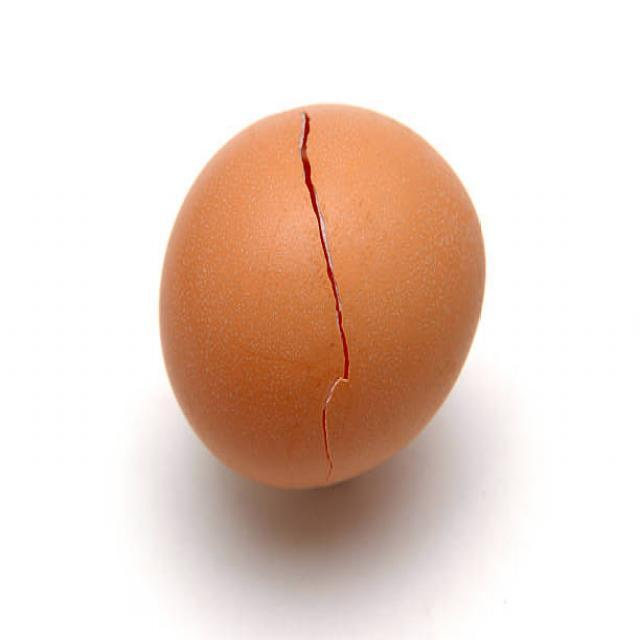biodegradable: (155, 97, 490, 493)
